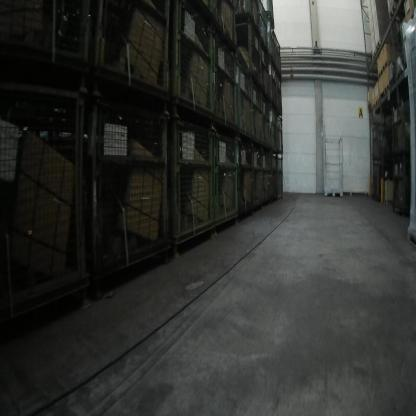pallet: (388, 3, 405, 26), (376, 35, 388, 52), (371, 50, 380, 62)
stillage: (2, 67, 87, 324), (89, 72, 174, 301), (91, 0, 173, 97), (2, 2, 97, 71), (176, 104, 215, 261), (172, 2, 215, 132), (211, 126, 239, 236), (213, 23, 239, 133), (233, 19, 261, 91), (233, 60, 255, 143), (234, 131, 253, 226), (253, 27, 274, 104), (391, 151, 413, 217), (390, 99, 412, 154), (215, 1, 239, 49), (252, 75, 265, 152), (250, 143, 263, 218), (371, 117, 390, 164), (270, 101, 285, 155), (261, 88, 273, 153), (238, 1, 262, 33), (372, 161, 391, 201), (271, 152, 285, 201), (272, 26, 285, 74), (262, 147, 272, 209), (258, 2, 270, 52), (269, 58, 277, 109), (276, 68, 284, 119)
